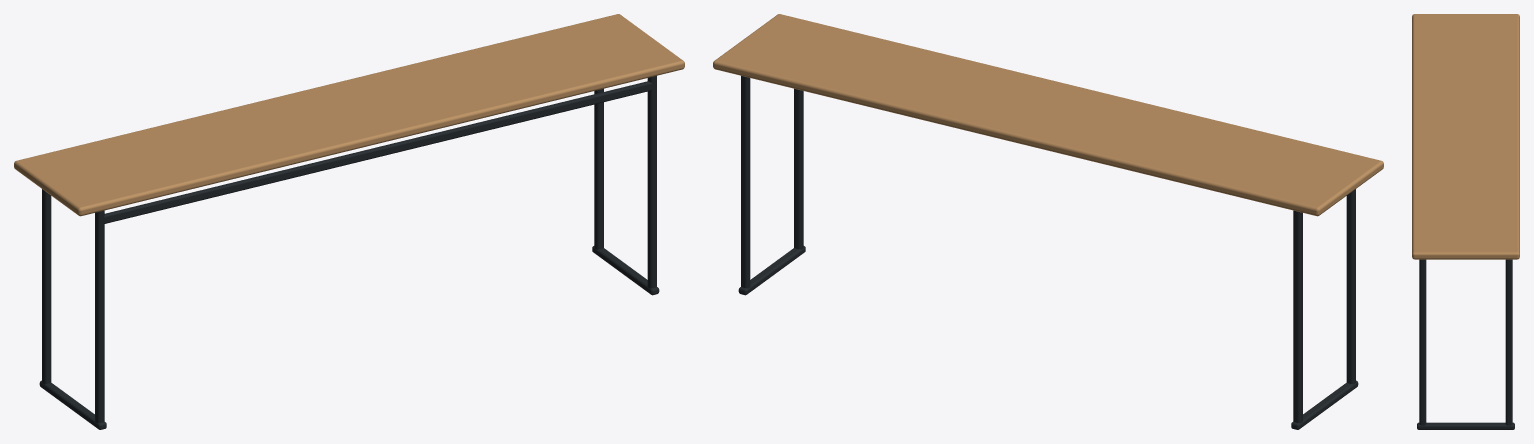
File: windowBar-1.glb
3 renders of one model, left to right at view 1: azimuth 30°, elevation 25°; view 2: azimuth 150°, elevation 25°; view 3: azimuth 270°, elevation 25°, orthographic. The views are drawn at different scales.
Visible parts, largest first — view 1: windowBar:1:archviz; view 2: windowBar:1:archviz; view 3: windowBar:1:archviz.
Part boxes in pixels (box(x1,y1,x2,y2)): windowBar:1:archviz: box(14, 14, 684, 429); windowBar:1:archviz: box(713, 14, 1383, 429); windowBar:1:archviz: box(1412, 14, 1519, 429).
Size of the model in its own units: 2.9 by 1.05 by 0.5498.
